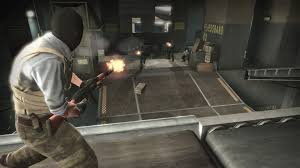gun: (43, 67, 114, 137)
